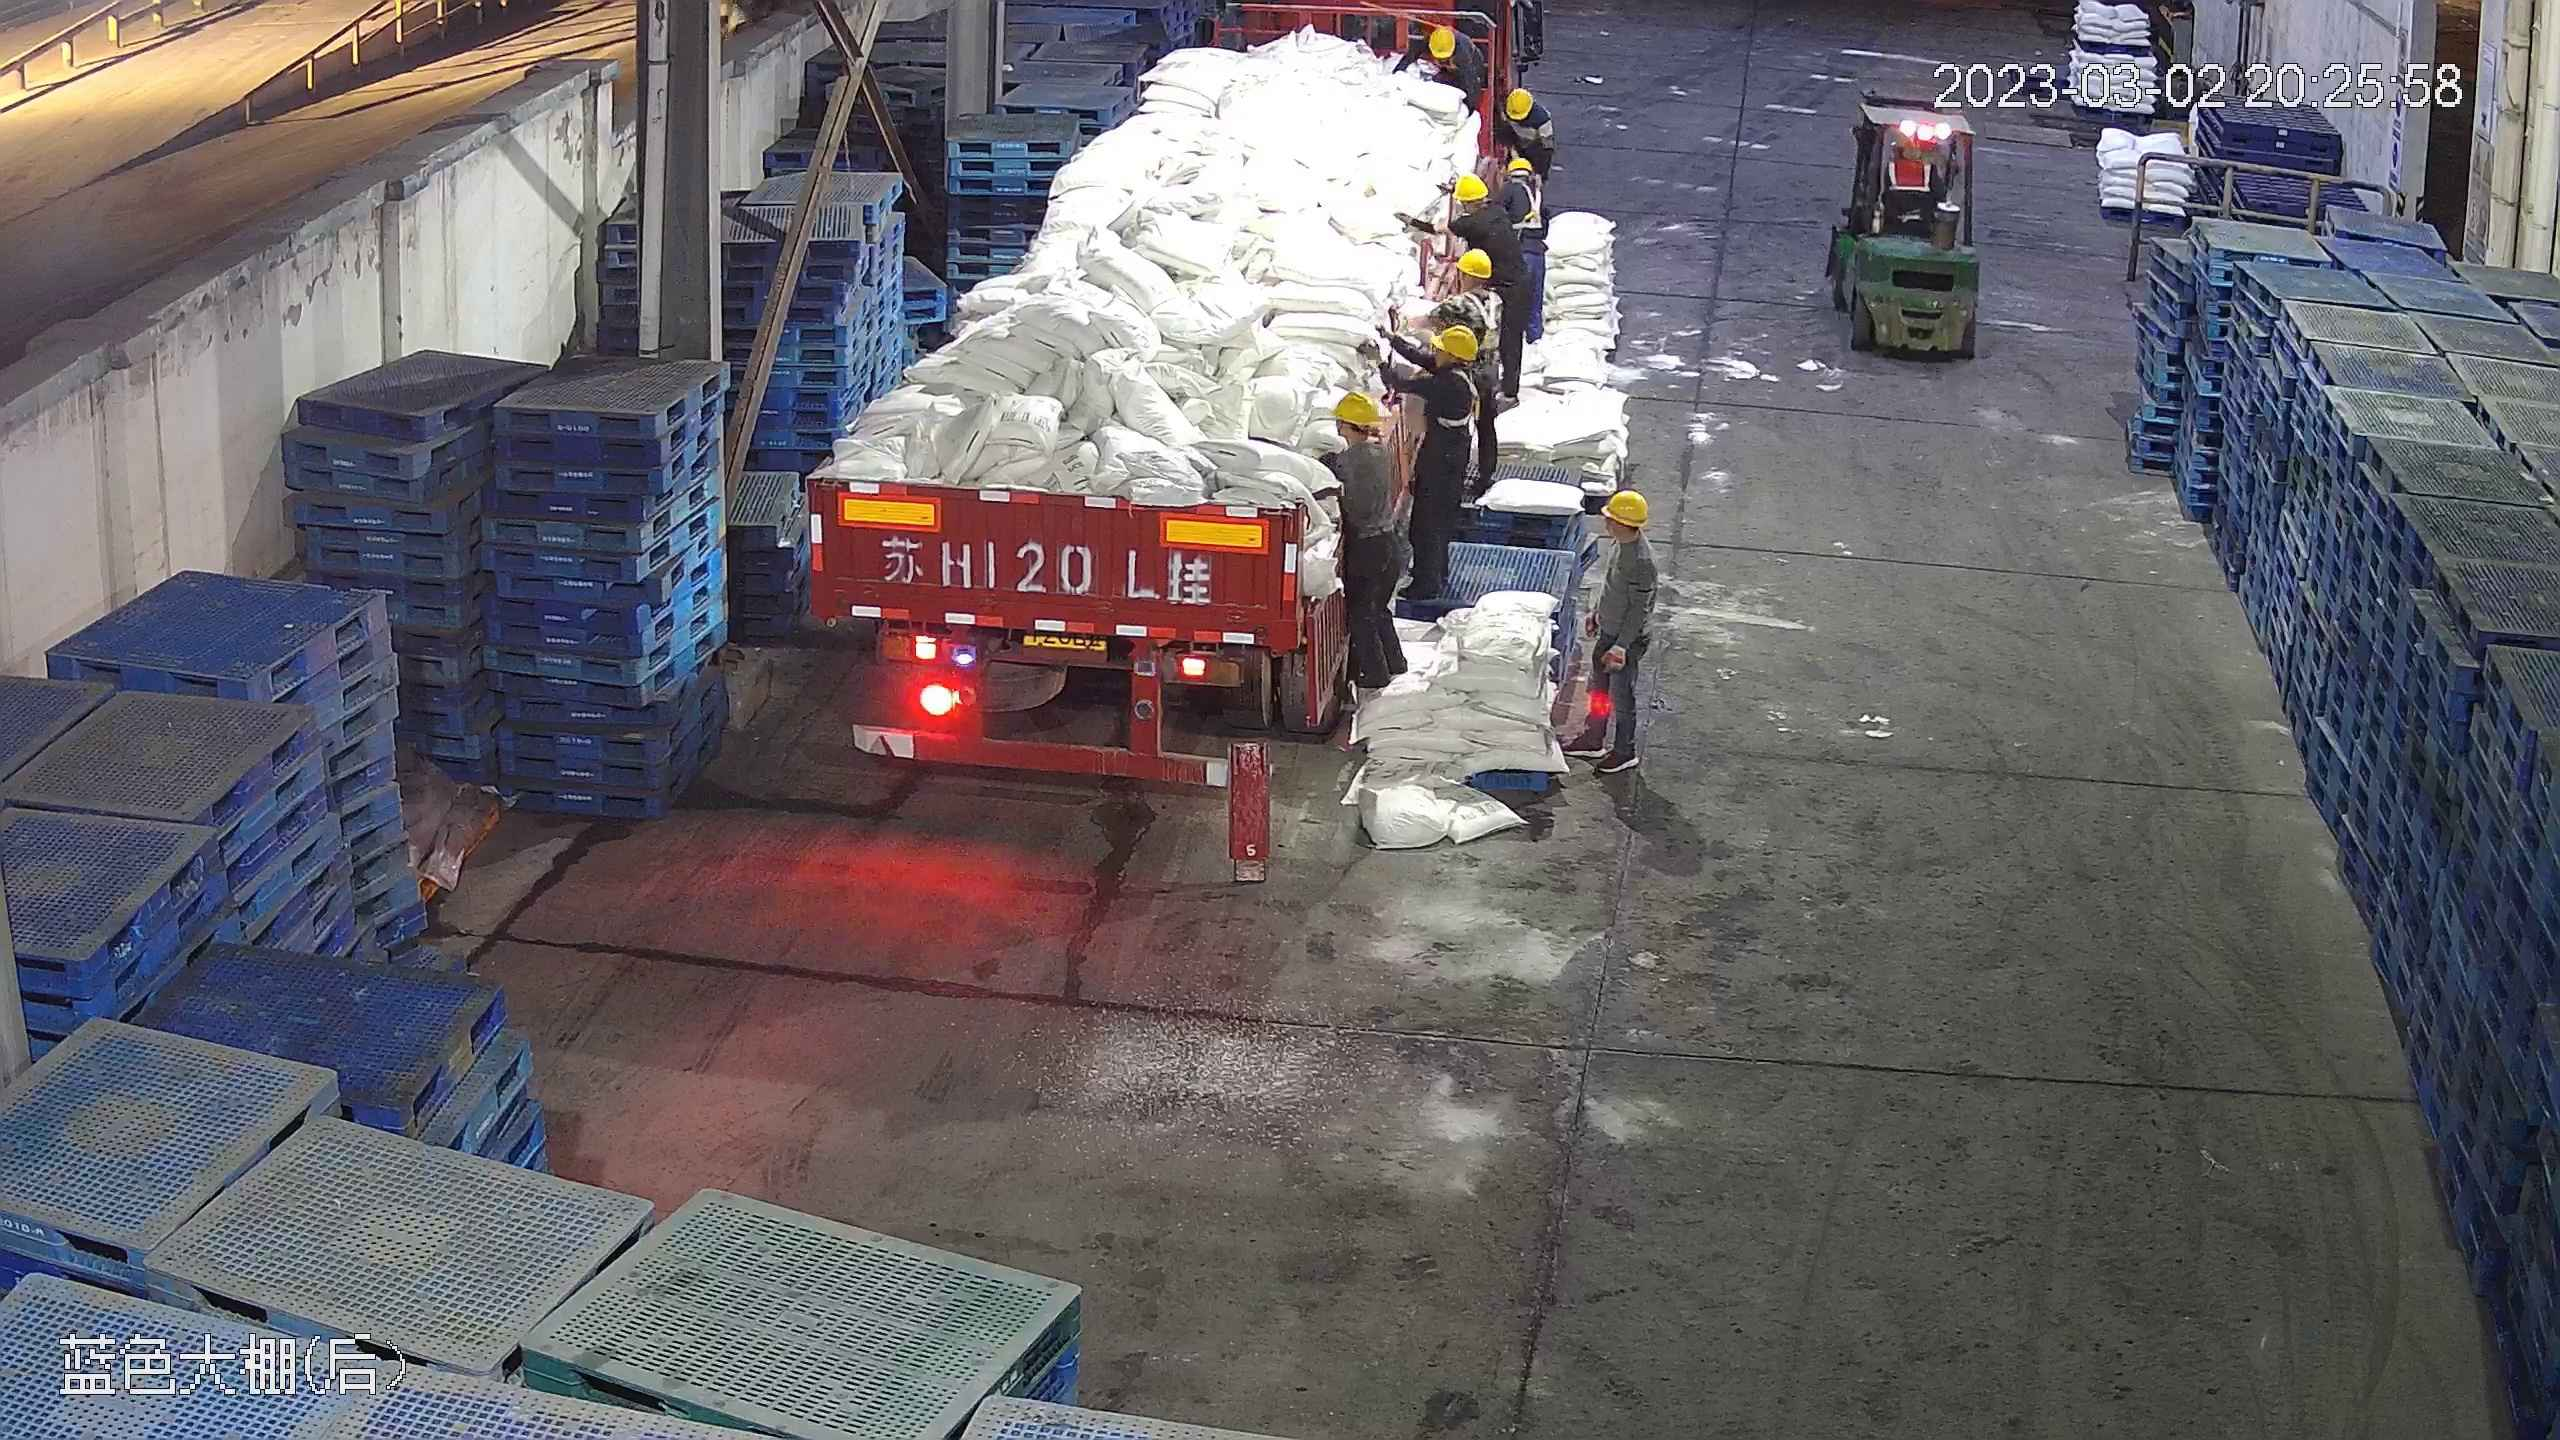belt: (1419, 363, 1478, 432), (1508, 179, 1544, 235), (1470, 282, 1499, 338), (1431, 54, 1460, 71), (1430, 21, 1458, 33)
head: (1578, 486, 1654, 591), (1324, 387, 1399, 492), (1412, 319, 1485, 412), (1437, 250, 1498, 319), (1450, 171, 1506, 232), (1492, 156, 1539, 214), (1500, 86, 1546, 135), (1422, 23, 1460, 60)
helmet: (1331, 389, 1387, 429), (1502, 86, 1544, 132), (1433, 322, 1480, 362), (1599, 488, 1650, 526), (1425, 22, 1459, 56), (1453, 251, 1492, 278), (1502, 84, 1531, 114), (1457, 173, 1488, 202), (1505, 155, 1534, 175)
people: (1557, 485, 1660, 777), (1391, 318, 1483, 631), (1323, 387, 1405, 710), (1438, 150, 1528, 394), (1395, 18, 1489, 115), (1504, 151, 1545, 340)
truck: (789, 10, 1436, 790)
